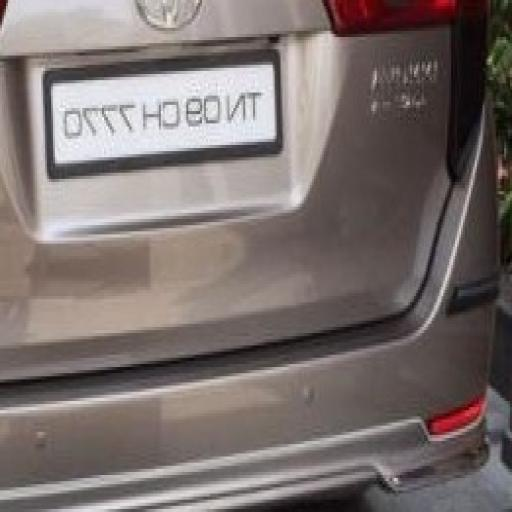License: (53, 56, 279, 164)
